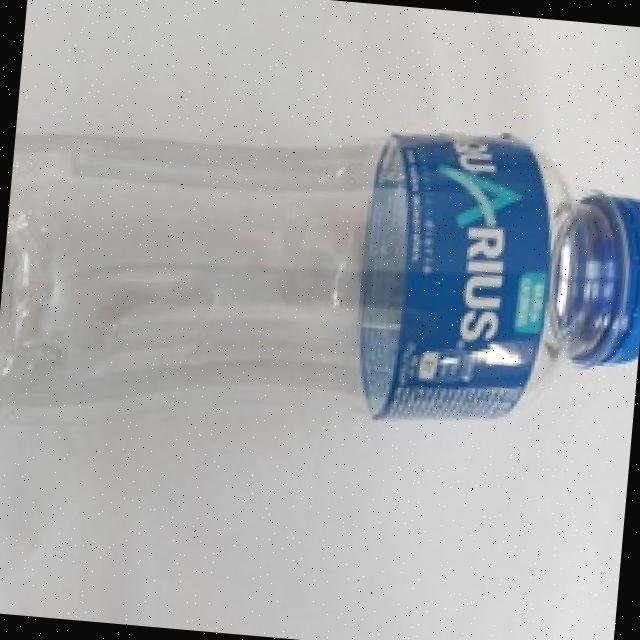bottle: (0, 77, 640, 492)
cap: (543, 178, 640, 373)
label: (339, 113, 556, 441)
